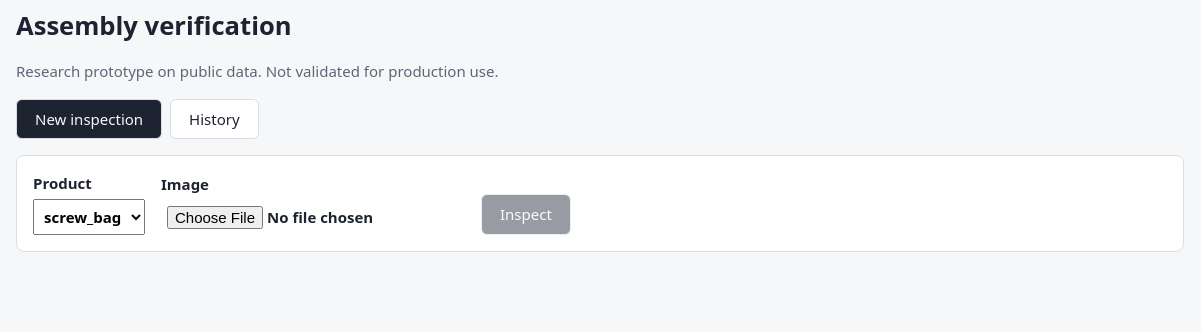
Test: History › shows the API's error and keeps the page usable when the list fails
Click the button "History". click: [214, 119]
box: x1=170 y1=99 x2=259 y2=139
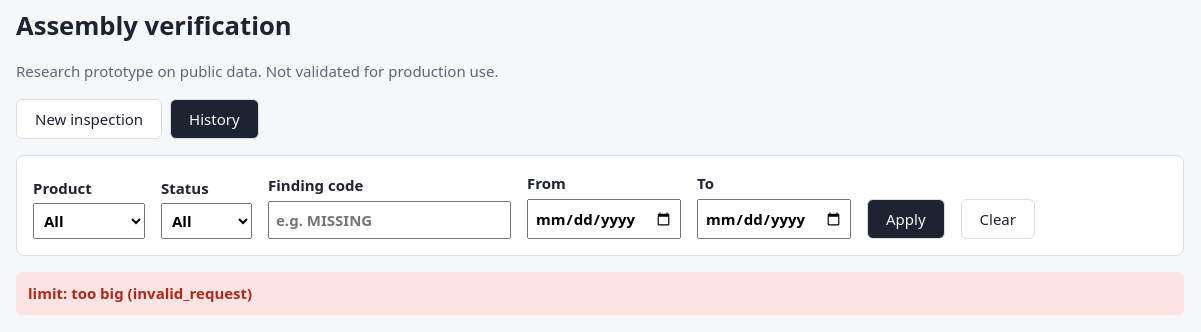
Result: the message reads "limit: too big (invalid_request)" at x1=28 y1=283 x2=252 y2=303
Result: the button "Apply" is shown at x1=867 y1=199 x2=945 y2=239
